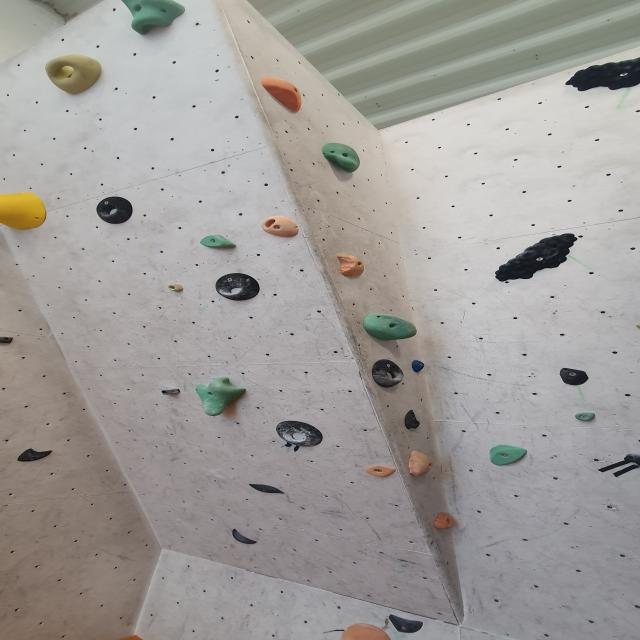Crimp: (487, 446, 529, 468), (362, 463, 396, 478), (432, 514, 458, 533), (164, 283, 189, 293), (410, 360, 428, 372), (573, 413, 599, 421)
Jug: (489, 233, 579, 282), (42, 54, 105, 97), (561, 58, 640, 92), (118, 0, 189, 37), (193, 377, 249, 418), (319, 142, 362, 174)
Pinch: (258, 78, 306, 115), (404, 451, 438, 479), (333, 255, 368, 279), (196, 235, 239, 253), (161, 386, 184, 396)
Pocket: (214, 274, 264, 302), (272, 421, 325, 447), (92, 197, 137, 226), (370, 359, 406, 390), (260, 215, 301, 239)
Sloper: (0, 191, 49, 233), (362, 313, 421, 341), (337, 624, 390, 640)
